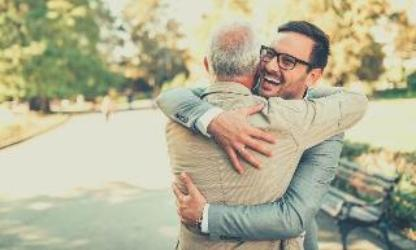person: (150, 14, 284, 250), (254, 13, 349, 250)
